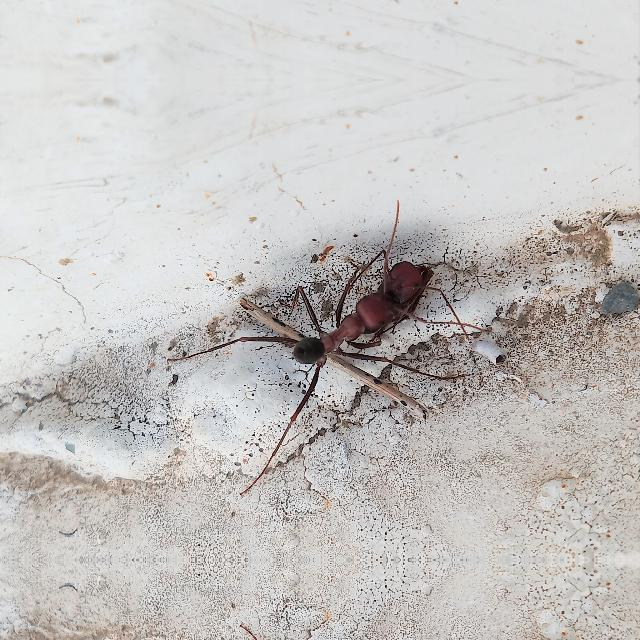Cataglyphis: (249, 231, 477, 401), (168, 372, 180, 386)
